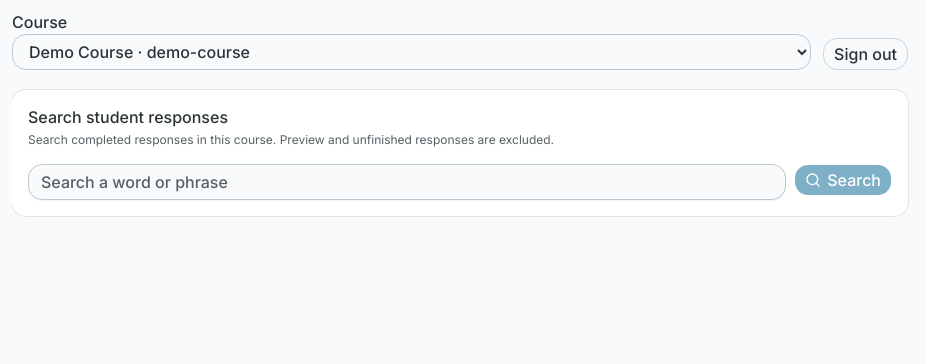
Test: does not show results from a prior course after switching courses
The width and height of the screenshot is (926, 364).
Type "capstone" into the search field named "Search student responses" at x=407, y=182, box 28,164 -> 786,200
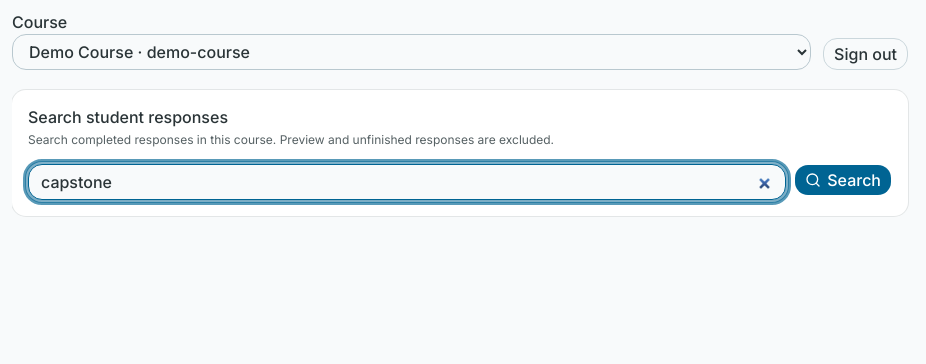
Click the button "Search" at x=843, y=180, box 794,164 -> 892,196
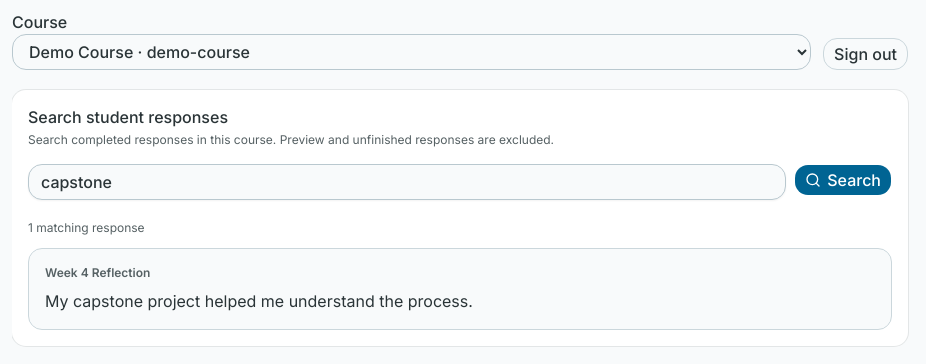
Now the text "My capstone project helped me understand the process." is shown, box 45,291 -> 473,311
Select "Other Course · demo-course" in the dropdown labelled "Course" at x=412, y=52, box 12,34 -> 811,70
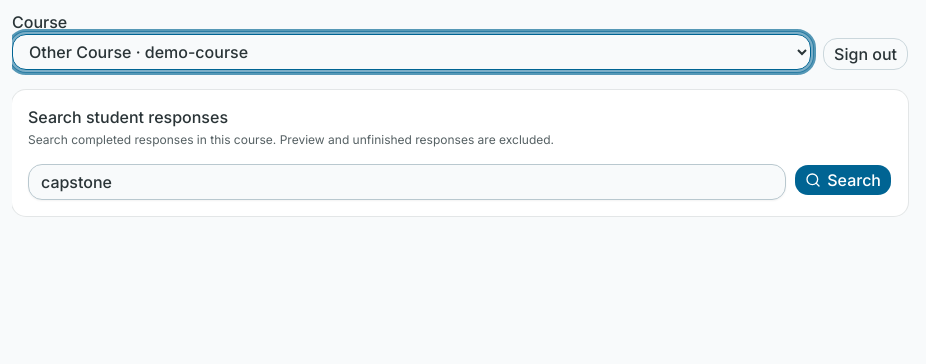
Now the text "My capstone project" is gone
